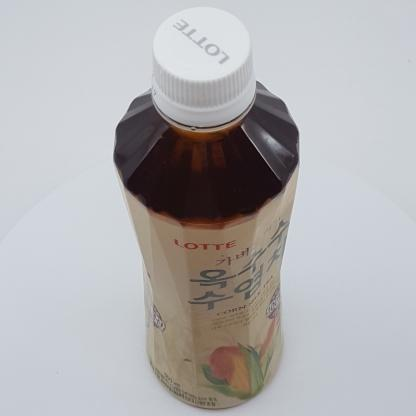--------500ML: (113, 6, 300, 409)
